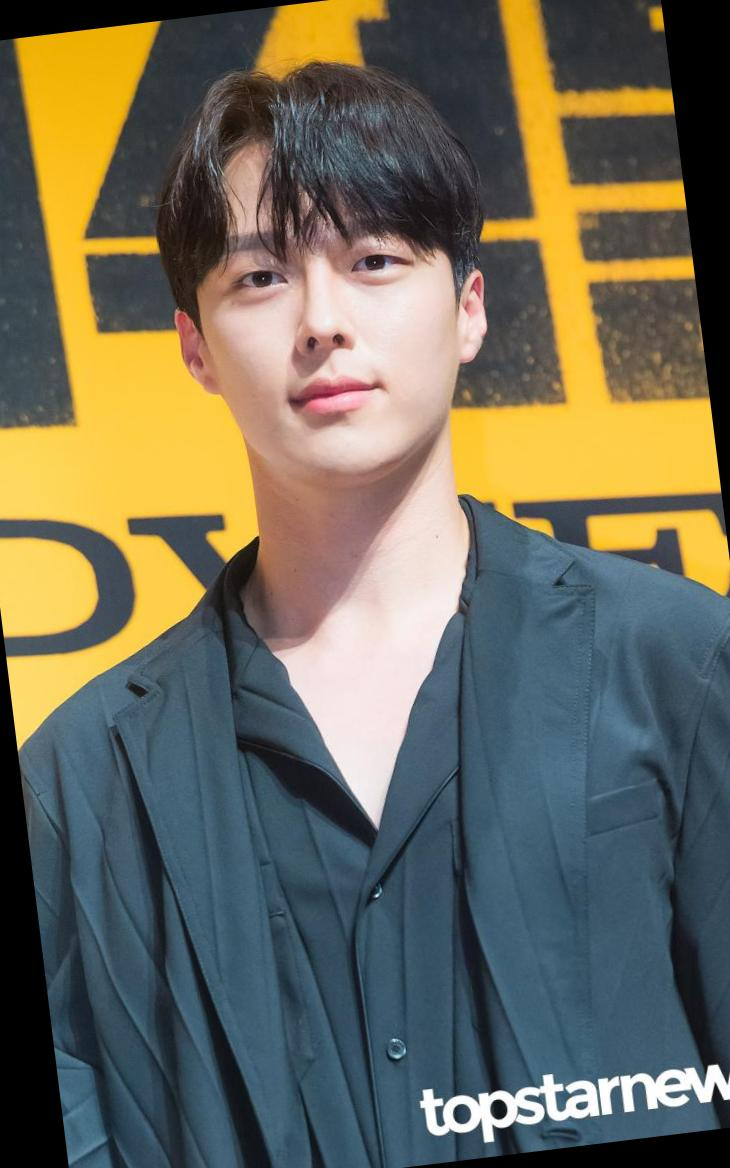opened: (200, 205, 430, 324)
